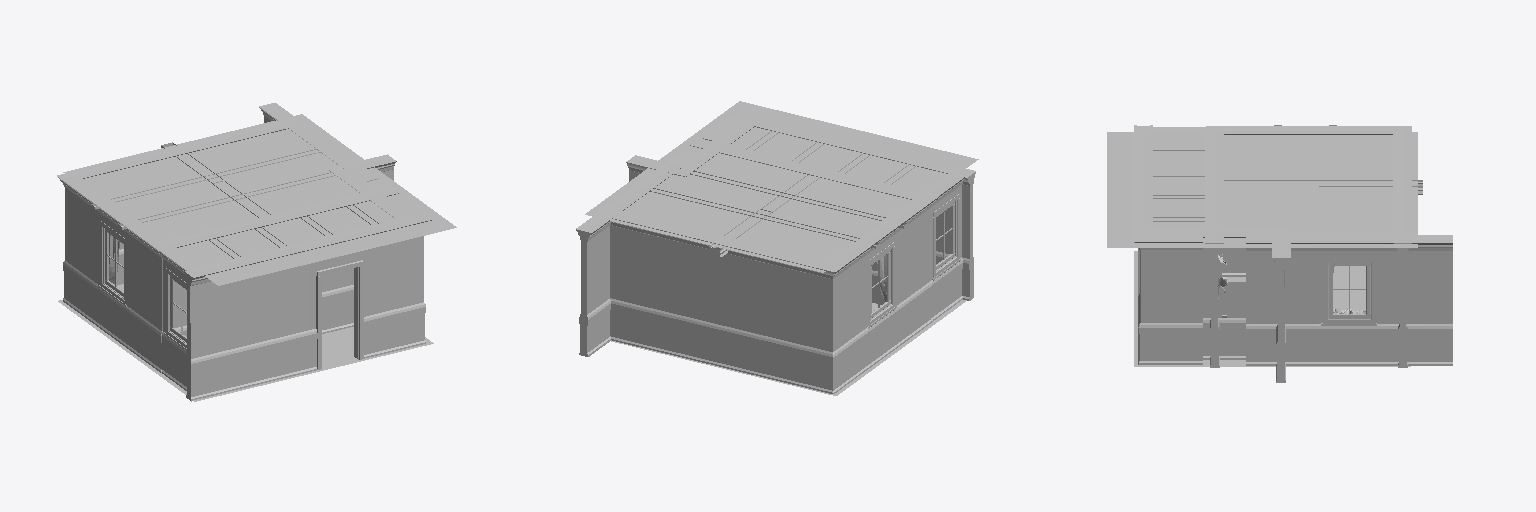
File: bathroom.obj
3 views of the same model, side by side, from view 1: azimuth 30°, elevation 25°; view 2: azimuth 150°, elevation 25°; view 3: azimuth 270°, elevation 25° (orthographic).
Parts seen in each view (by area): view 1: Selling_top.001_Plane.055, Wall_Clear_long.002_Plane.045, Wall_Corner.004_Plane.047, Wall_Corner.001_Plane.028, Wall_Corner.002_Plane.033, Wall_Window.002_Plane.030, Wall_Doorway_Door.002_Plane.046, Wall_Dam1_long.001_Plane.027, Wall_Window.003_Plane.044, Floor_tile.001_Plane.054, Wall_Clear_long.001_Plane.025, Wall_corner_shelf.001_Plane.021 (+4 smaller); view 2: Selling_top.001_Plane.055, Wall_Clear_long.001_Plane.025, Wall_Corner.002_Plane.033, Wall_Clear_Short.003_Plane.049, Wall_Corner.001_Plane.028, Wall_Clear_Short.001_Plane.048, Wall_Window.002_Plane.030, Wall_Window.003_Plane.044, Wall_Clear_long.002_Plane.045, Wall_Dam1_long.001_Plane.027, Wall_corner_shelf.001_Plane.021, Wall_Corner.004_Plane.047 (+5 smaller); view 3: Selling_top.001_Plane.055, Wall_Corner.004_Plane.047, Wall_Clear_Short.001_Plane.048, Wall_Clear_Short.002_Plane.029, Wall_Window.001_Plane.024, Wall_corner_shelf.001_Plane.021, Wall_Dam1_long.001_Plane.027, Floor_tile.001_Plane.054, Wall_Clear_Short.004_Plane.053, Wall_Clear_Short.003_Plane.049, Wall_Clear_long.001_Plane.025, Wall_Clear_long.002_Plane.045 (+6 smaller).
Part boxes in pixels (x1,y1,x2,y2): Selling_top.001_Plane.055: (63,114,456,285); Wall_Clear_long.002_Plane.045: (184,242,312,401); Wall_Corner.004_Plane.047: (364,195,431,356); Wall_Corner.001_Plane.028: (126,222,218,372); Wall_Corner.002_Plane.033: (57,161,124,323); Wall_Window.002_Plane.030: (91,197,140,348); Wall_Doorway_Door.002_Plane.046: (304,227,372,371); Wall_Dam1_long.001_Plane.027: (270,186,398,333); Wall_Window.003_Plane.044: (157,245,206,390); Floor_tile.001_Plane.054: (58,300,433,401); Wall_Clear_long.001_Plane.025: (117,132,244,283); Wall_corner_shelf.001_Plane.021: (328,154,396,193); Selling_top.001_Plane.055: (585,101,978,272); Wall_Clear_long.001_Plane.025: (656,222,783,380); Wall_Corner.002_Plane.033: (776,243,869,393); Wall_Clear_Short.003_Plane.049: (597,208,664,351); Wall_Corner.001_Plane.028: (870,182,937,344); Wall_Clear_Short.001_Plane.048: (576,204,625,356); Wall_Window.002_Plane.030: (854,218,903,370); Wall_Window.003_Plane.044: (918,170,968,320); Wall_Clear_long.002_Plane.045: (848,142,975,300); Wall_Dam1_long.001_Plane.027: (690,139,818,174); Wall_corner_shelf.001_Plane.021: (626,149,719,181); Wall_Corner.004_Plane.047: (703,113,796,141); Selling_top.001_Plane.055: (1107,132,1417,247); Wall_Corner.004_Plane.047: (1134,213,1202,364); Wall_Clear_Short.001_Plane.048: (1384,235,1452,365); Wall_Clear_Short.002_Plane.029: (1246,235,1314,365); Wall_Window.001_Plane.024: (1315,235,1383,365); Wall_corner_shelf.001_Plane.021: (1222,229,1290,382); Wall_Dam1_long.001_Plane.027: (1205,185,1227,367); Floor_tile.001_Plane.054: (1134,251,1410,366); Wall_Clear_Short.004_Plane.053: (1144,229,1221,359); Wall_Clear_Short.003_Plane.049: (1393,214,1412,367); Wall_Clear_long.001_Plane.025: (1393,156,1411,213); Wall_Clear_long.002_Plane.045: (1134,125,1152,183).
Size of the model in its own units: 21.18 by 9.54 by 23.24.